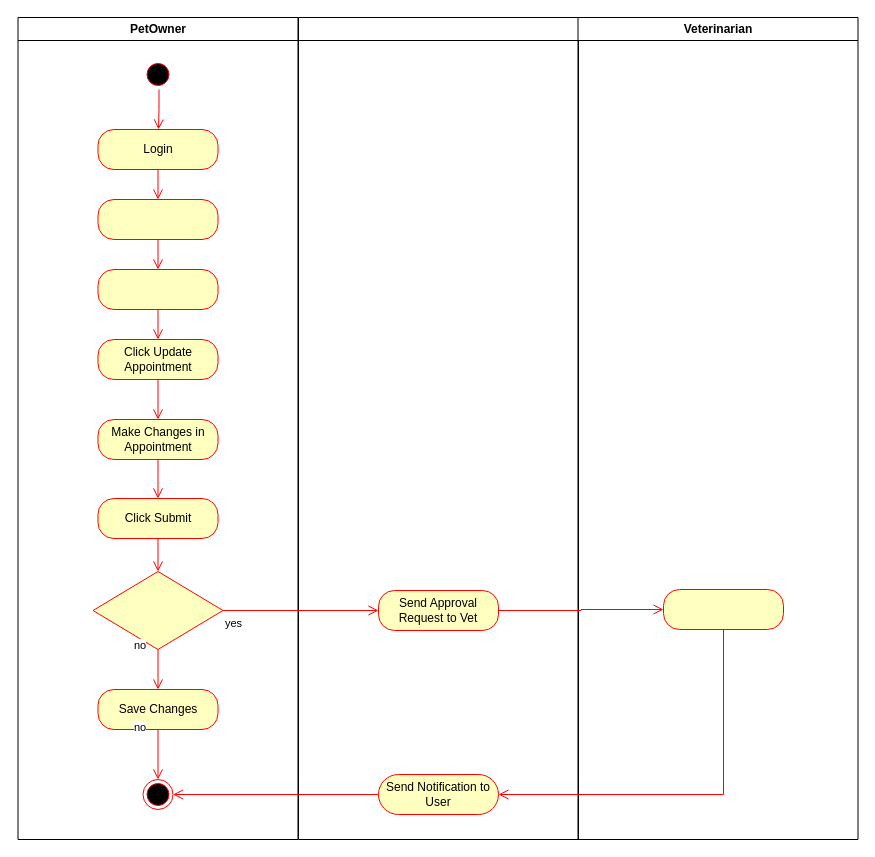
Some shapes in this 875 by 857 pixel diagram are drawn without their labels. Each missing label, with the box of its shape:
Approve/Disapprove Changes: (662, 588, 784, 630)
Is there a change in time?: (92, 570, 223, 650)
Select Appointment: (97, 268, 218, 310)
Select Appointments from Menu: (97, 198, 218, 240)
System: (298, 16, 578, 840)
